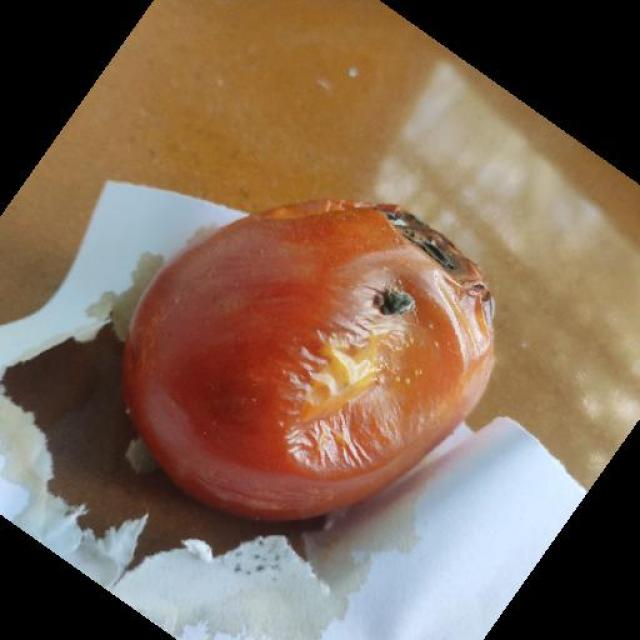Stale_tomato: (138, 136, 504, 503)
